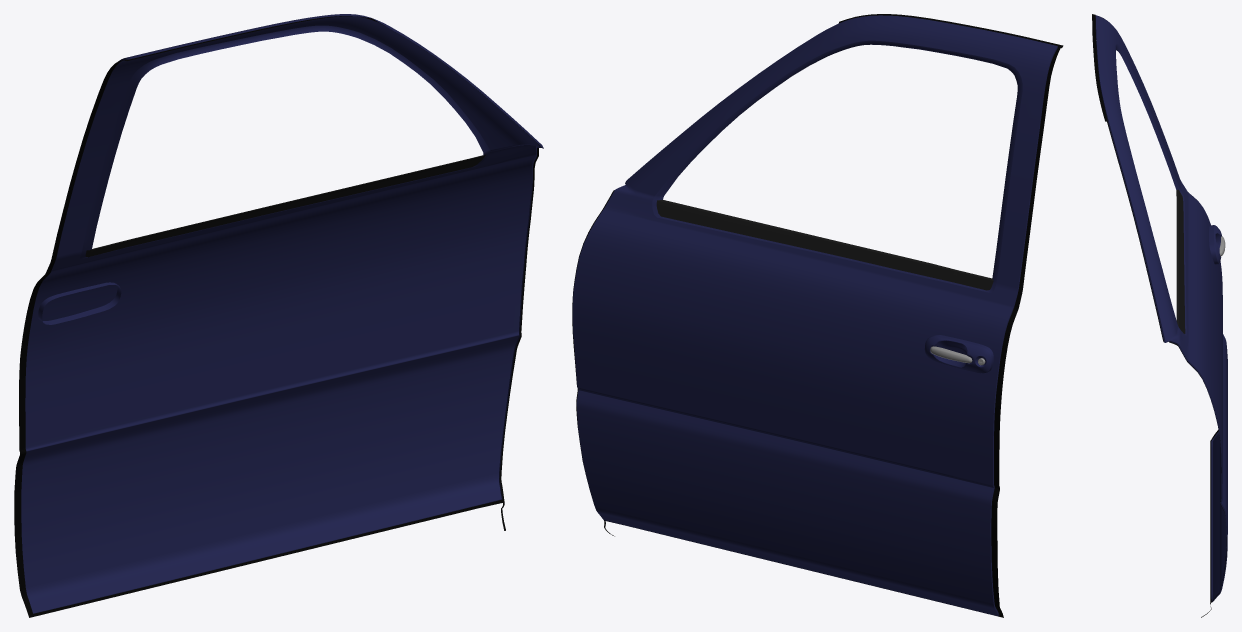
3 renders of one model, left to right at view 1: azimuth 30°, elevation 25°; view 2: azimuth 150°, elevation 25°; view 3: azimuth 270°, elevation 25°, orthographic. The views are drawn at different scales.
Visible parts, largest first — view 1: U803_3A_261B_L_U803_3A_261B_L_1_DaS, U803_3A_261B_L_U803_3A_261B_L_1_DaS_E, U803_3A_261B_L_U803_3A_261B_L_4_D, U803_3A_261B_L_U803_3A_261B_L_3_D; view 2: U803_3A_261B_L_U803_3A_261B_L_1_DaS, U803_3A_261B_L_U803_3A_261B_L_1_DaS_E, U803_3A_261B_L_U803_3A_261B_L_3_D, U803_3A_261B_L_U803_3A_261B_L_4_D; view 3: U803_3A_261B_L_U803_3A_261B_L_1_DaS, U803_3A_261B_L_U803_3A_261B_L_1_DaS_E, U803_3A_261B_L_U803_3A_261B_L_4_D, U803_3A_261B_L_U803_3A_261B_L_3_D.
Boxes of the visible parts, x1=… form: U803_3A_261B_L_U803_3A_261B_L_1_DaS: x1=21, y1=16, x2=541, y2=613; U803_3A_261B_L_U803_3A_261B_L_1_DaS_E: x1=34, y1=14, x2=543, y2=613; U803_3A_261B_L_U803_3A_261B_L_4_D: x1=14, y1=16, x2=543, y2=617; U803_3A_261B_L_U803_3A_261B_L_3_D: x1=85, y1=154, x2=485, y2=257; U803_3A_261B_L_U803_3A_261B_L_1_DaS: x1=572, y1=15, x2=1057, y2=616; U803_3A_261B_L_U803_3A_261B_L_1_DaS_E: x1=652, y1=40, x2=1057, y2=616; U803_3A_261B_L_U803_3A_261B_L_3_D: x1=656, y1=199, x2=993, y2=290; U803_3A_261B_L_U803_3A_261B_L_4_D: x1=572, y1=14, x2=1063, y2=617; U803_3A_261B_L_U803_3A_261B_L_1_DaS: x1=1096, y1=15, x2=1227, y2=599; U803_3A_261B_L_U803_3A_261B_L_1_DaS_E: x1=1095, y1=15, x2=1227, y2=602; U803_3A_261B_L_U803_3A_261B_L_4_D: x1=1092, y1=14, x2=1226, y2=617; U803_3A_261B_L_U803_3A_261B_L_3_D: x1=1176, y1=189, x2=1185, y2=333.
Size of the model in its own units: 108 by 129 by 35.57.
